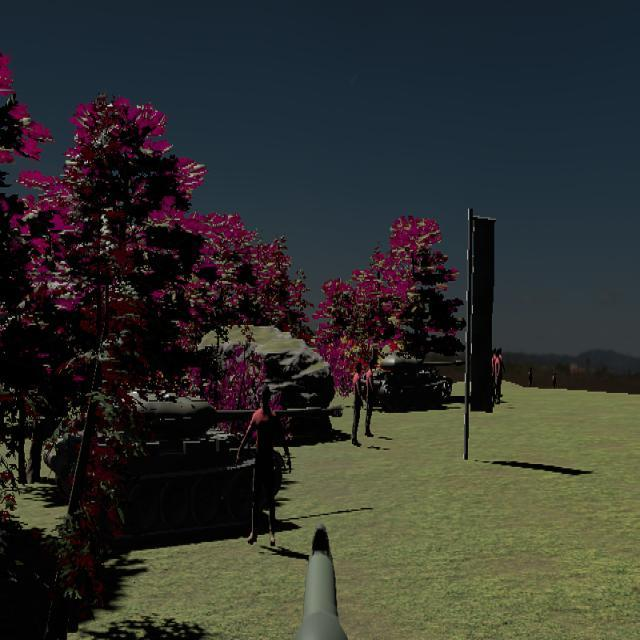Human: (237, 374, 289, 546), (352, 361, 364, 445), (364, 356, 375, 440)
Tank: (46, 381, 337, 546), (361, 349, 465, 412)
